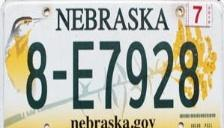2: (151, 41, 178, 109)
7: (98, 39, 124, 112)
8: (23, 40, 50, 111), (177, 40, 202, 109)
9: (126, 41, 151, 109)
E: (69, 39, 98, 112)
